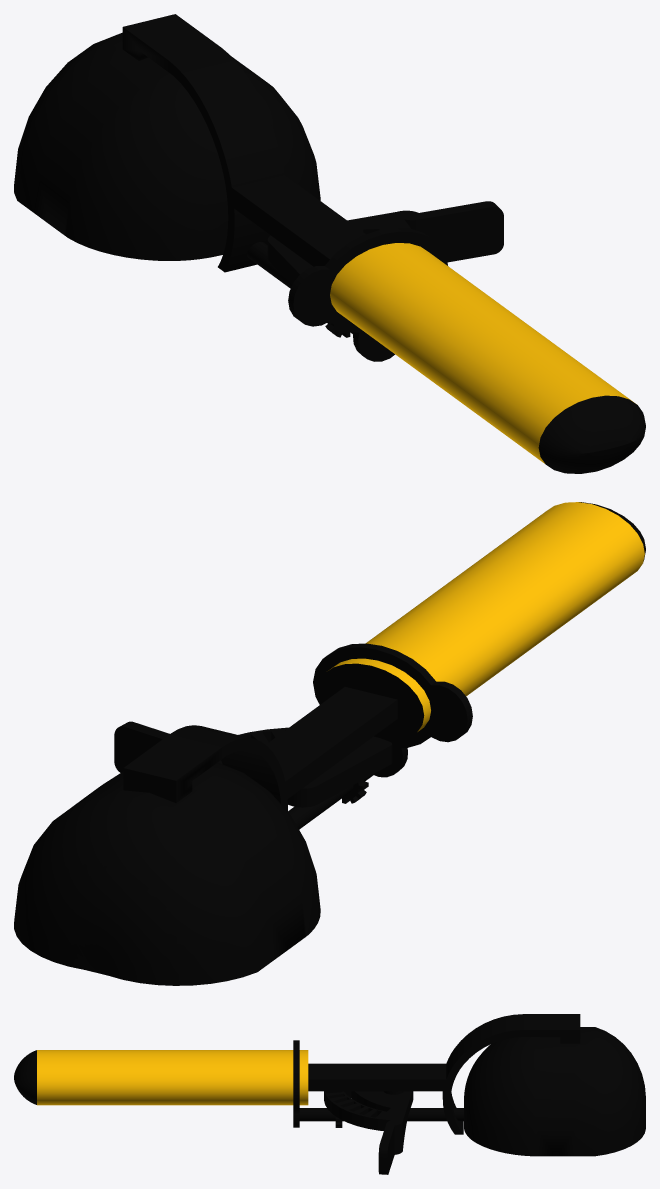
Rendered from scoop_01_origin_gt_1.dae.
3 renders of one model, top to bottom at view 1: azimuth 30°, elevation 25°; view 2: azimuth 150°, elevation 25°; view 3: azimuth 270°, elevation 25°, orthographic. The views are drawn at different scales.
Parts seen in each view (by area): view 1: group_0 (×4); view 2: group_0 (×4); view 3: group_0 (×5).
Part boxes in pixels (bbox=[...]): group_0 (×4): bbox=[14, 14, 645, 473]; group_0 (×4): bbox=[14, 502, 644, 985]; group_0 (×5): bbox=[14, 1014, 645, 1174].
Bounding box in the file's own units: 4.22 × 12.06 × 2.21.
